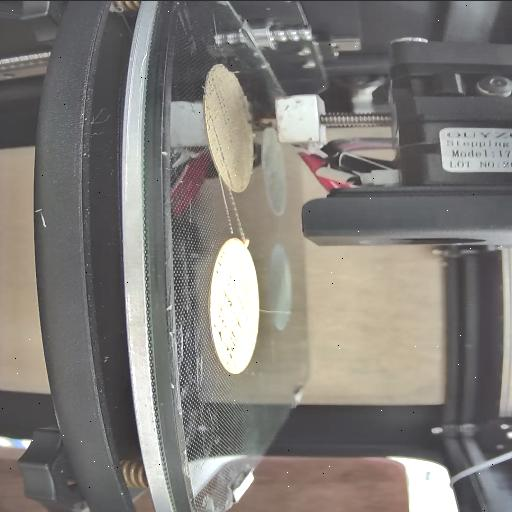under_extrusion: (214, 248, 242, 368), (209, 89, 239, 188)
